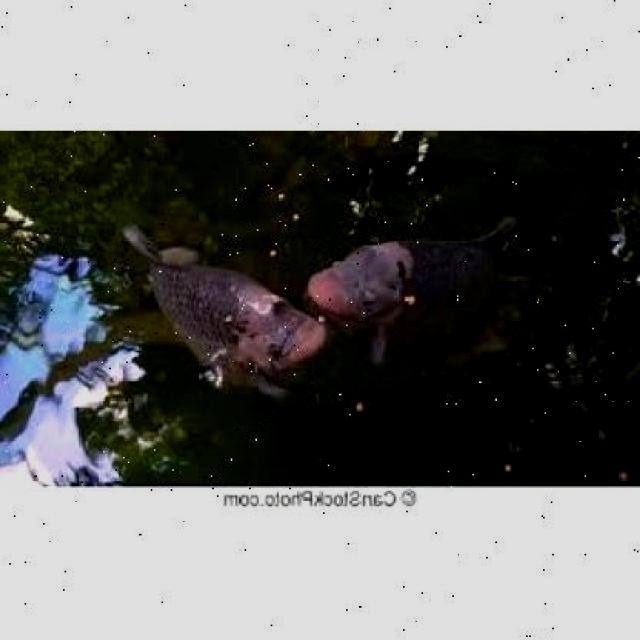gurame: (131, 235, 327, 388), (318, 214, 524, 346)
